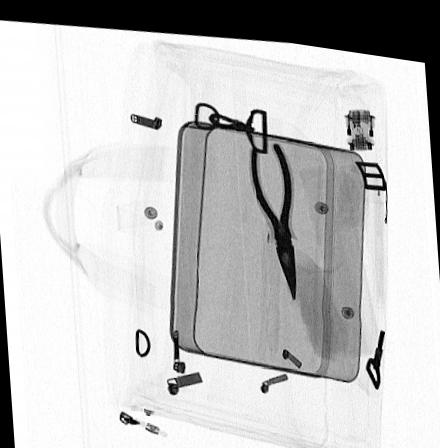Pliers: (249, 131, 298, 292)
